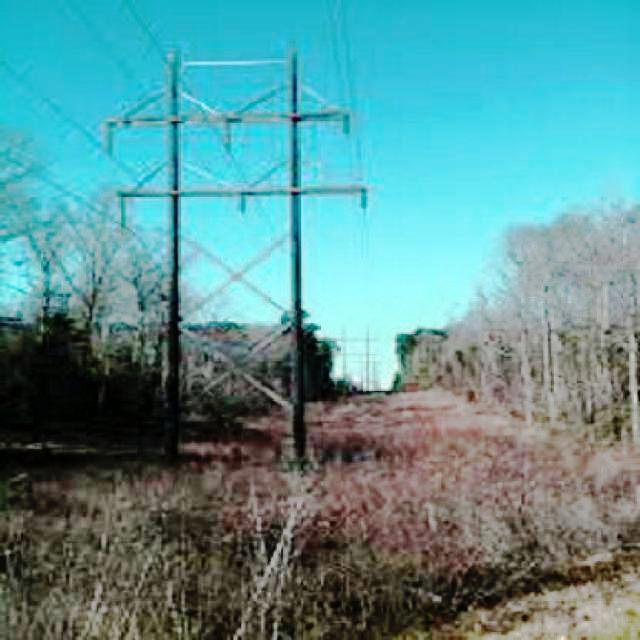poles: (120, 36, 352, 470)
